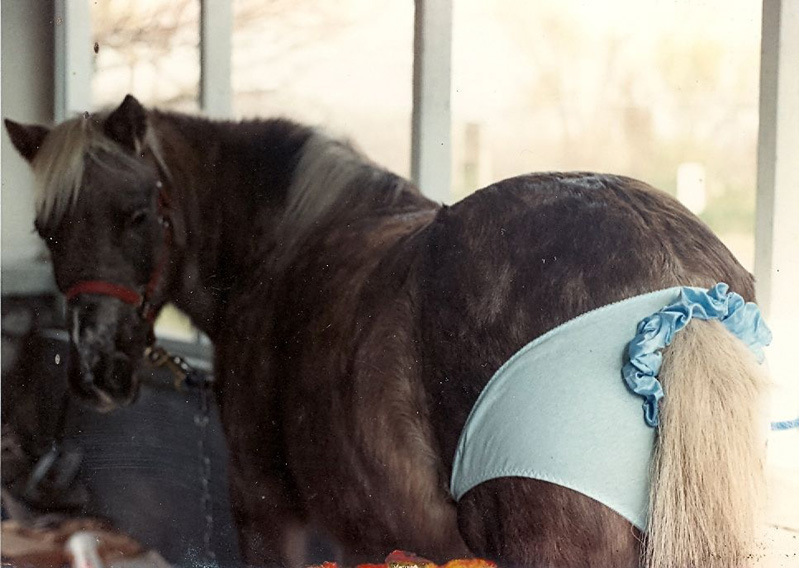Horse: (7, 86, 787, 568)
